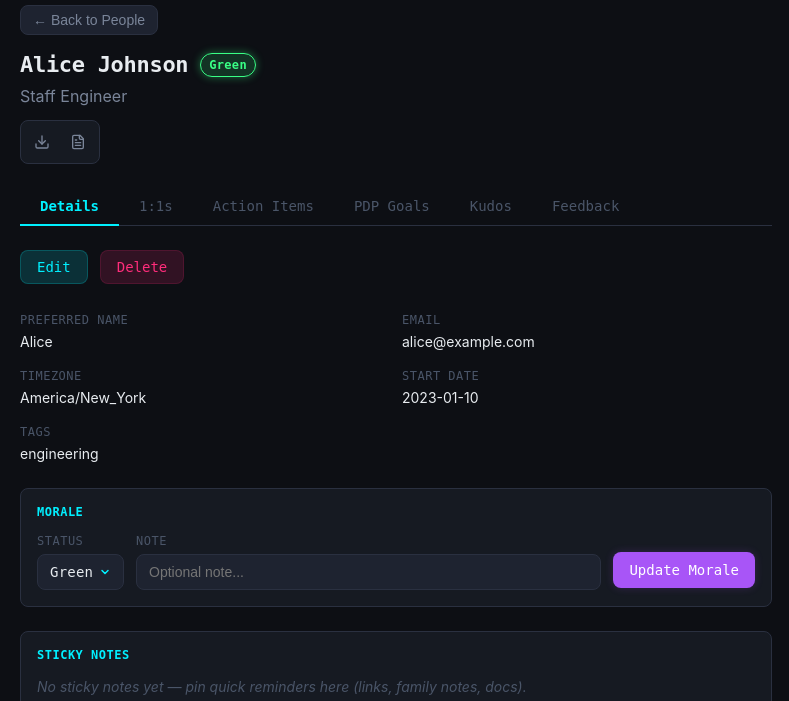
Test: PersonDetailPage — 1:1s Tab › should show series config panel when gear icon is clicked
The image size is (789, 701).
Click the tab with test id "tab-one-on-ones" at (156, 207), box [119,188,193,226]
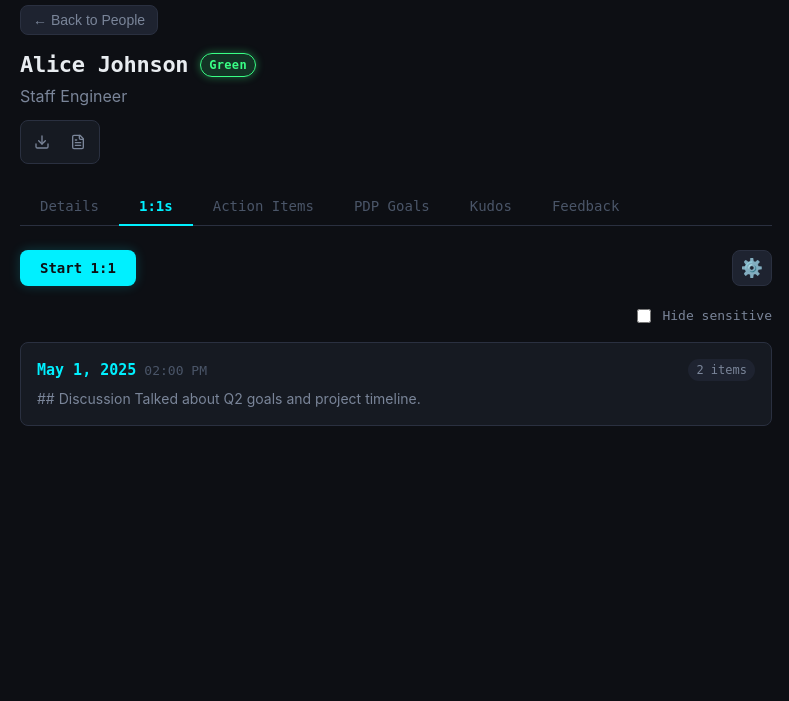
Expected: the button with test id "series-config-toggle" is shown
Click the button with test id "series-config-toggle" at (752, 268), box [732,250,772,286]
(page scrolled)
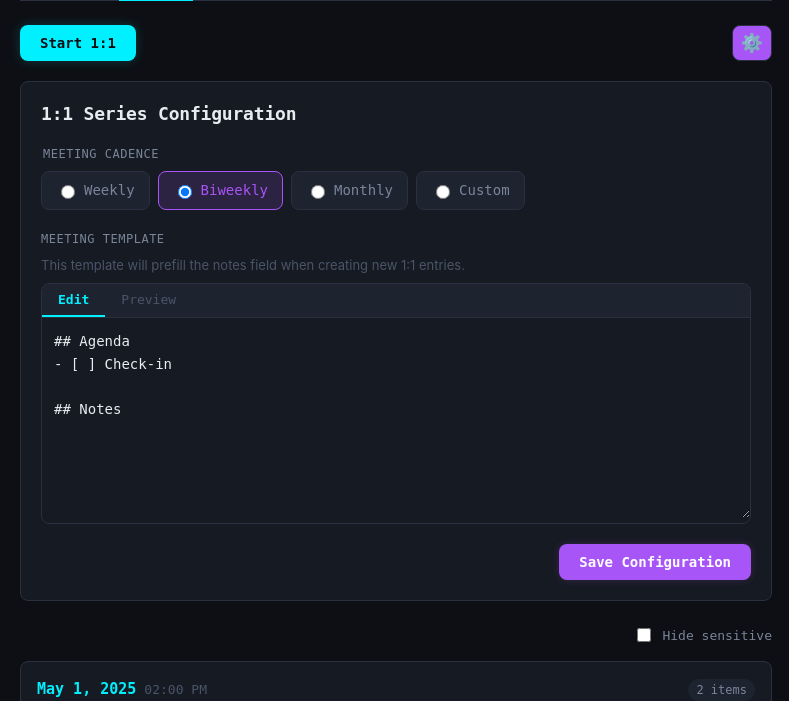
Expected: the form with test id "series-config-panel" is shown
